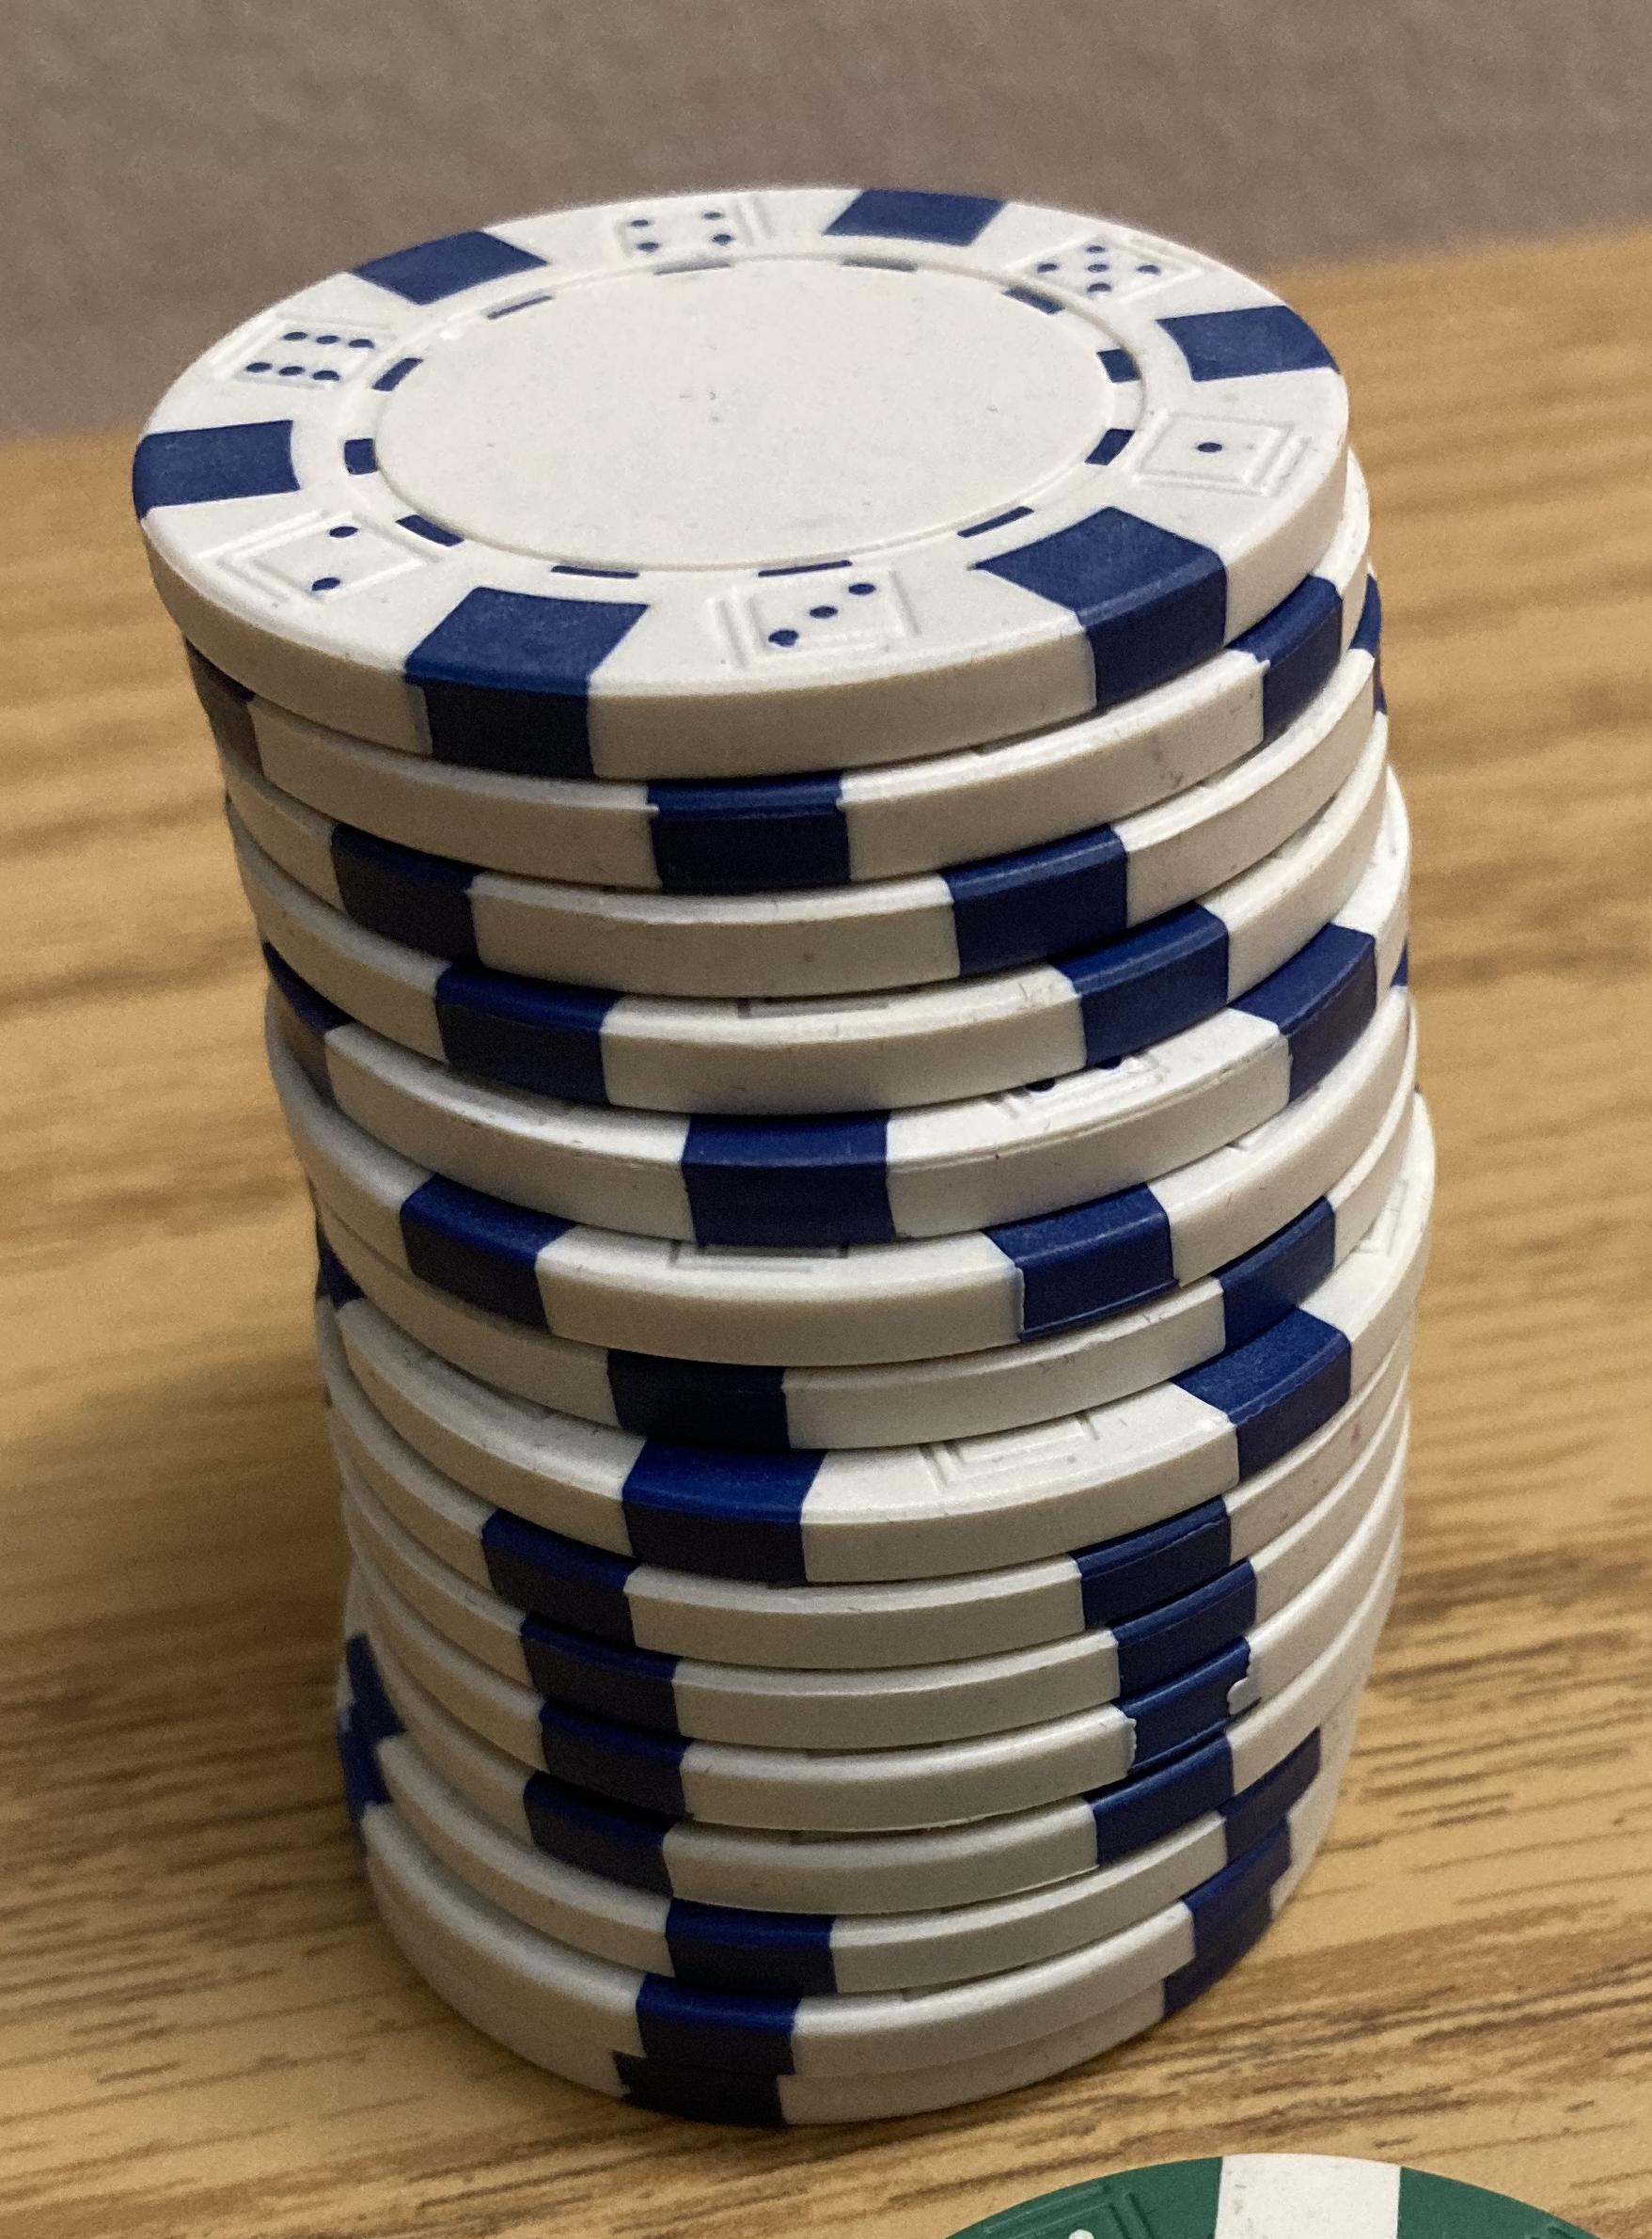Chip: (2, 2, 1652, 2239)
